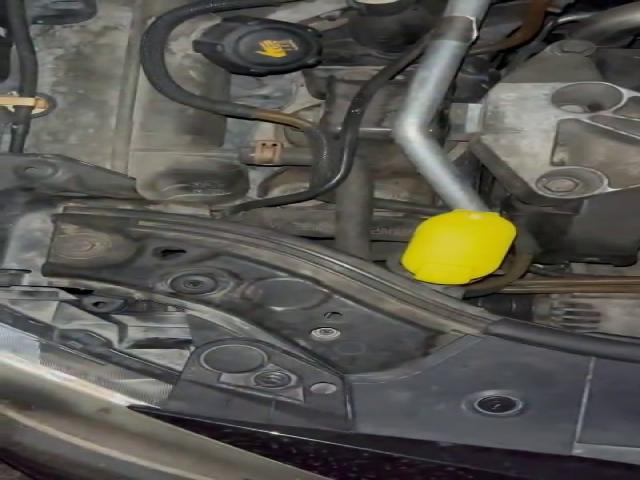antifreeze_tank: (26, 0, 245, 202), (163, 14, 320, 100)
